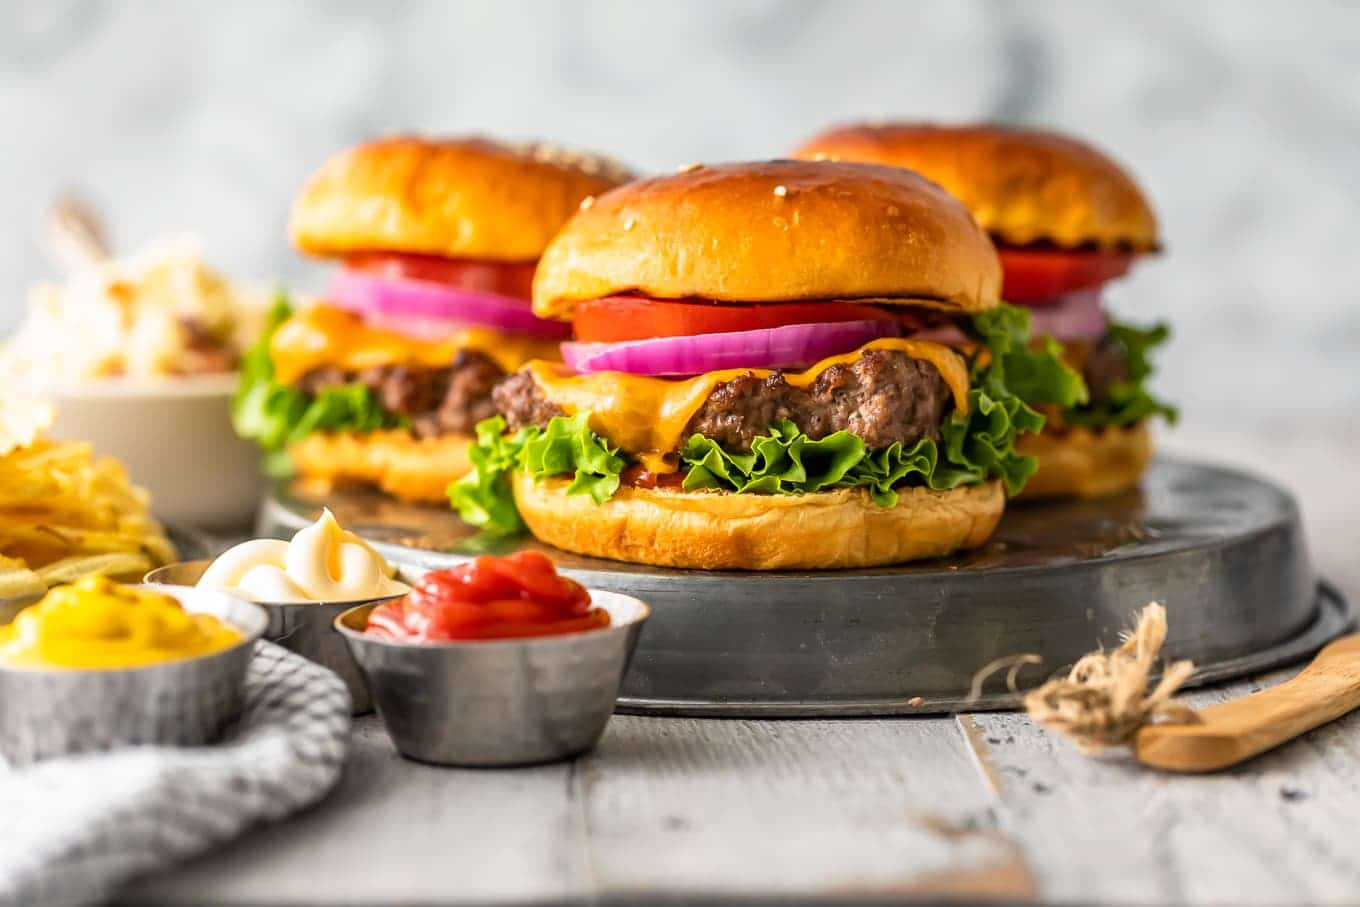hamburger_buns: (517, 160, 1035, 558)
